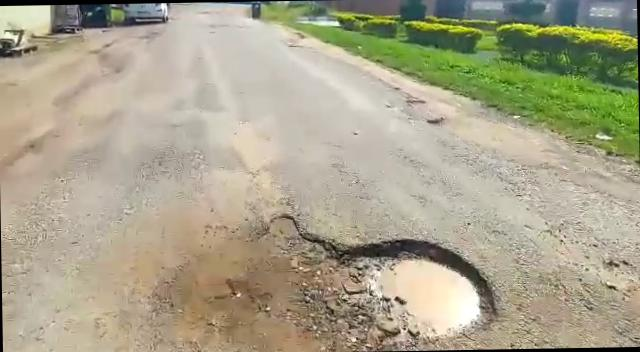pothole: (155, 210, 506, 352)
